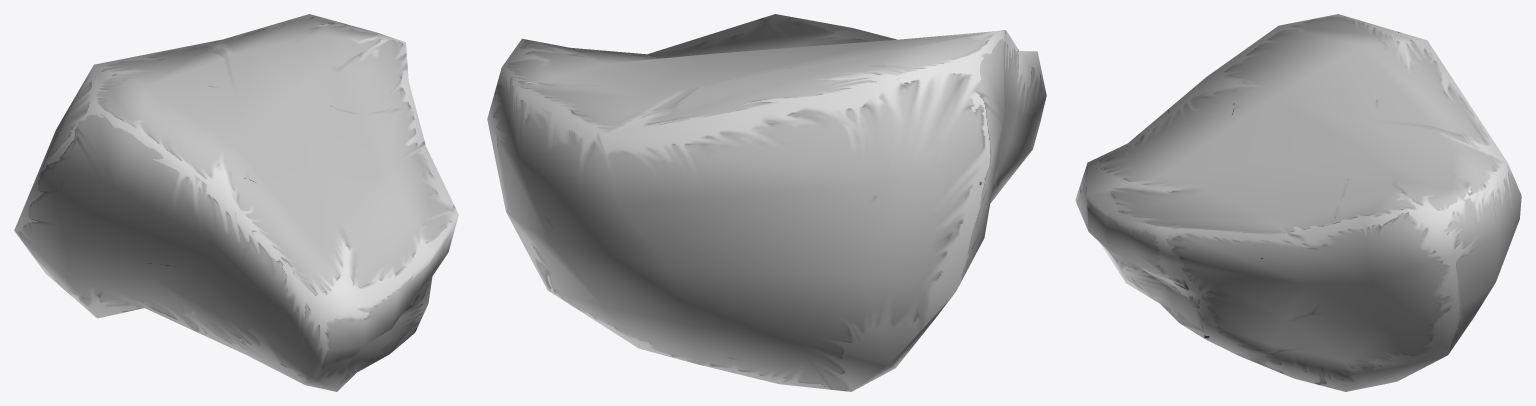
File: big rock.fbx
The picture shows the model from 3 angles, left to right: view 1: azimuth 30°, elevation 25°; view 2: azimuth 150°, elevation 25°; view 3: azimuth 270°, elevation 25°; orthographic projection. The views are drawn at different scales.
Parts seen in each view (by area): view 1: Cube; view 2: Cube; view 3: Cube.
Boxes of the visible parts, box(x1,y1,x2,y2) form: Cube: box(14, 14, 458, 391); Cube: box(487, 14, 1046, 391); Cube: box(1075, 14, 1521, 391).
Bounding box in the file's own units: 409 × 281 × 454.
1 material, 1 textured.
